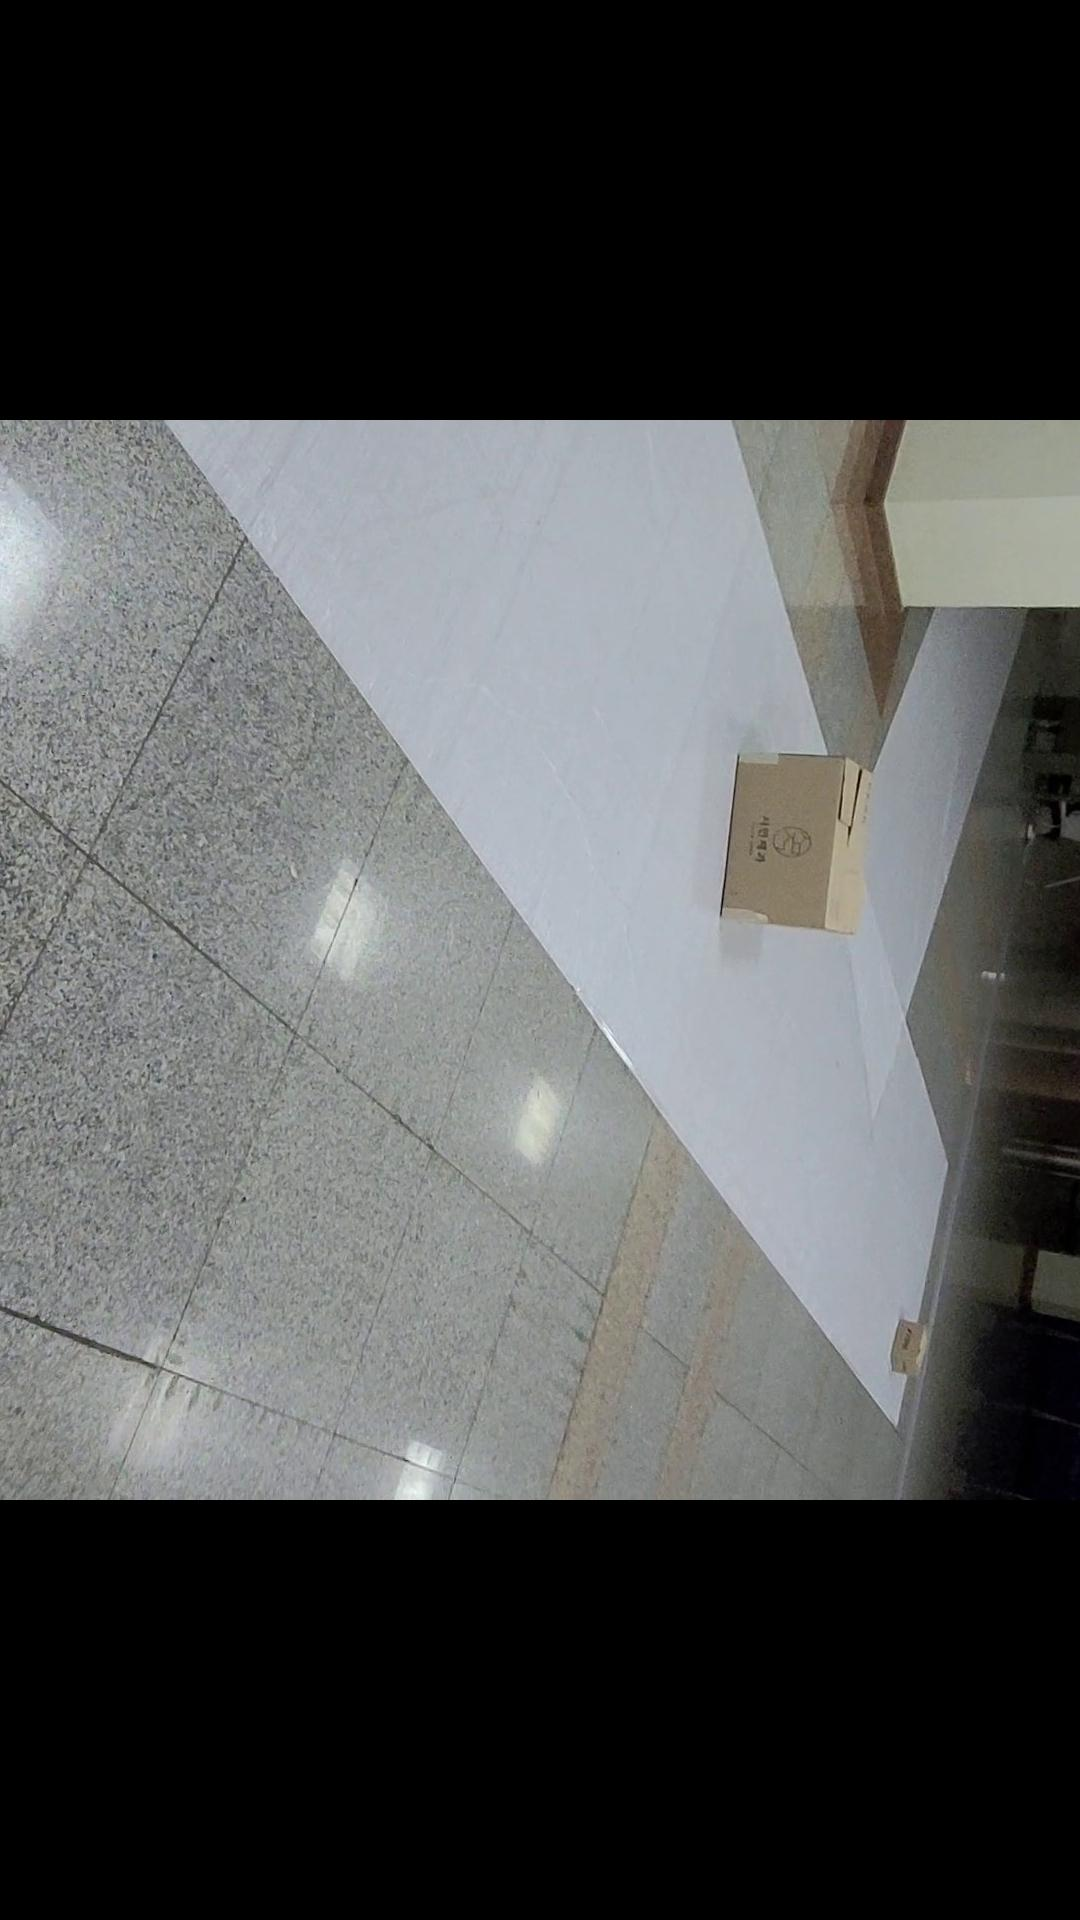Box: (707, 738, 877, 965), (887, 1303, 945, 1385)
